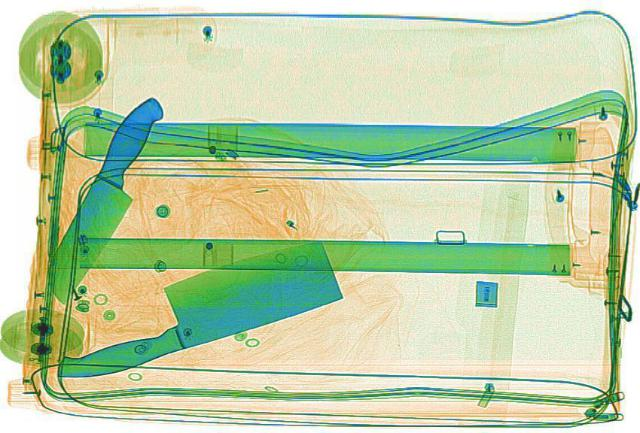Knife: (19, 232, 371, 389), (31, 91, 178, 306)
